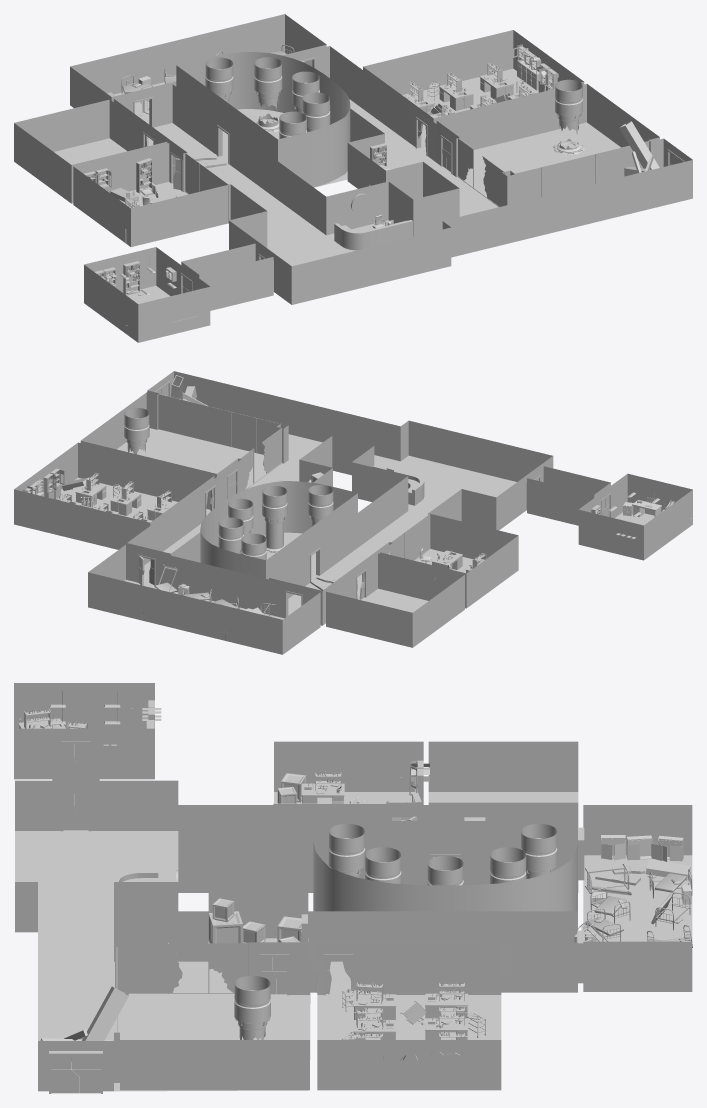
File: layout_2.fbx
3 renders of one model, top to bottom at view 1: azimuth 30°, elevation 25°; view 2: azimuth 150°, elevation 25°; view 3: azimuth 270°, elevation 25°, orthographic. The views are drawn at different scales.
Visible parts, largest first — view 1: walls, floor, glass window 3, Plane.266, Circle.053, glass window 1, Circle.050, Circle.172, glass window 2, Circle.170, Circle.046, Plane.281 (+3 smaller); view 2: walls, floor, glass window 3, glass window 2, glass window 1, Circle.170, Circle.053, Circle.059, Circle.050, Circle.046, Circle.172, Plane.222 (+3 smaller); view 3: walls, floor, glass window 1, glass window 2, Circle.053, Circle.059, Circle.172, Circle.170, Circle.050, Plane.281, Circle.046, door left.010 (+8 smaller).
Part boxes in pixels (bbox=[...]): walls: bbox=[14, 14, 692, 342]; floor: bbox=[54, 53, 620, 303]; glass window 3: bbox=[514, 141, 649, 202]; Plane.266: bbox=[334, 220, 412, 250]; Circle.053: bbox=[553, 79, 584, 154]; glass window 1: bbox=[457, 138, 504, 206]; Circle.050: bbox=[254, 57, 282, 132]; Circle.172: bbox=[205, 57, 233, 132]; glass window 2: bbox=[185, 153, 228, 223]; Circle.170: bbox=[302, 92, 330, 132]; Circle.046: bbox=[292, 71, 319, 112]; Plane.281: bbox=[619, 121, 659, 169]; walls: bbox=[14, 371, 692, 654]; floor: bbox=[56, 428, 654, 619]; glass window 3: bbox=[158, 394, 280, 454]; glass window 2: bbox=[390, 514, 430, 560]; glass window 1: bbox=[239, 428, 281, 490]; Circle.170: bbox=[262, 486, 287, 553]; Circle.053: bbox=[124, 408, 149, 445]; Circle.059: bbox=[308, 485, 333, 522]; Circle.050: bbox=[218, 517, 243, 553]; Circle.046: bbox=[228, 498, 253, 535]; Circle.172: bbox=[241, 533, 266, 560]; Plane.222: bbox=[110, 492, 141, 515]; walls: bbox=[14, 683, 692, 1091]; floor: bbox=[15, 744, 692, 1091]; glass window 1: bbox=[128, 943, 249, 993]; glass window 2: bbox=[273, 803, 386, 842]; Circle.053: bbox=[234, 975, 270, 1030]; Circle.059: bbox=[328, 823, 365, 876]; Circle.172: bbox=[521, 823, 557, 877]; Circle.170: bbox=[365, 847, 401, 883]; Circle.050: bbox=[490, 847, 526, 883]; Plane.281: bbox=[71, 986, 128, 1068]; Circle.046: bbox=[427, 856, 463, 885]; door left.010: bbox=[51, 1055, 79, 1092].
Bounding box in the file's own units: 46.51 × 5.58 × 36.65.
